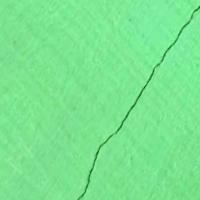crack: (69, 1, 199, 199)
